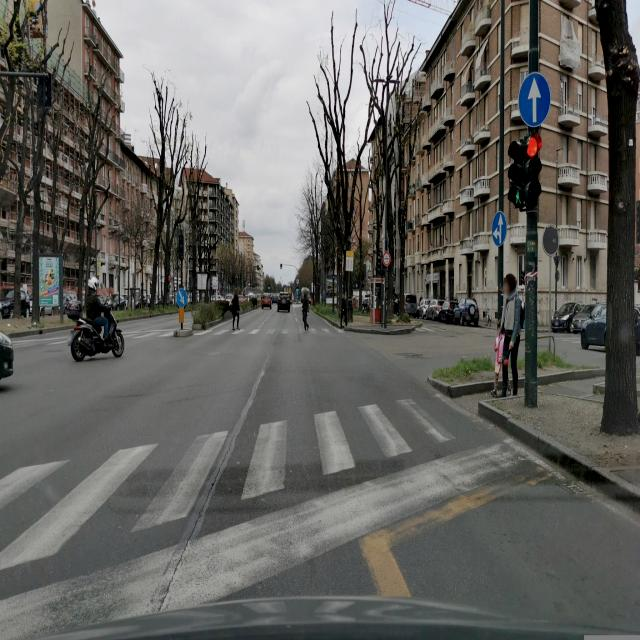bike: (70, 303, 124, 361)
car: (580, 303, 640, 355), (550, 299, 589, 334), (0, 301, 14, 396), (569, 301, 600, 335), (0, 286, 30, 319), (452, 296, 480, 328), (440, 297, 459, 324), (403, 292, 418, 318), (429, 297, 444, 322), (277, 291, 291, 313), (417, 296, 428, 318), (261, 292, 272, 310), (224, 292, 233, 309), (271, 292, 278, 306)
